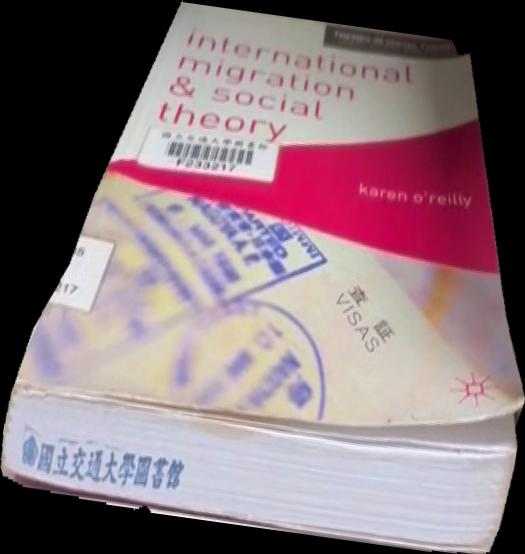flat: (1, 1, 525, 554)
